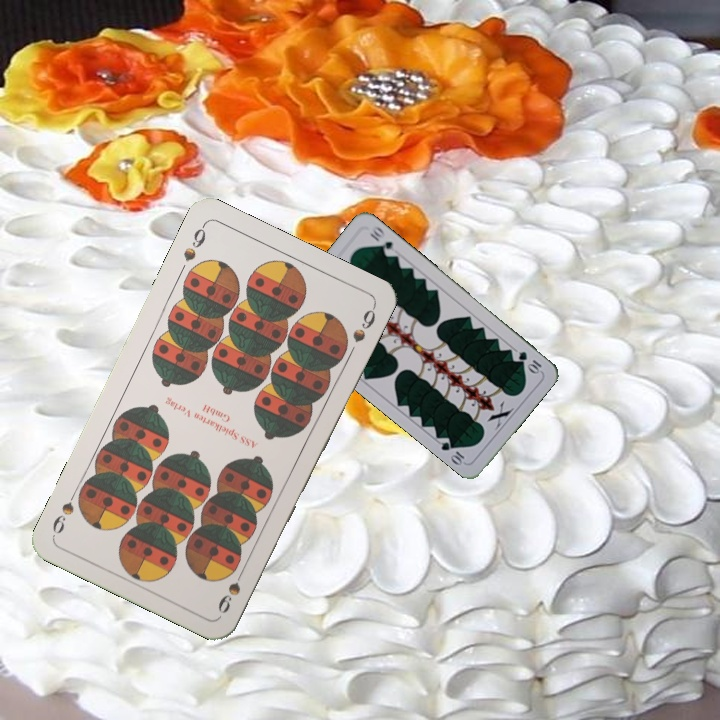G10: (514, 347, 544, 376)
S9: (214, 562, 249, 616), (179, 220, 209, 264)
